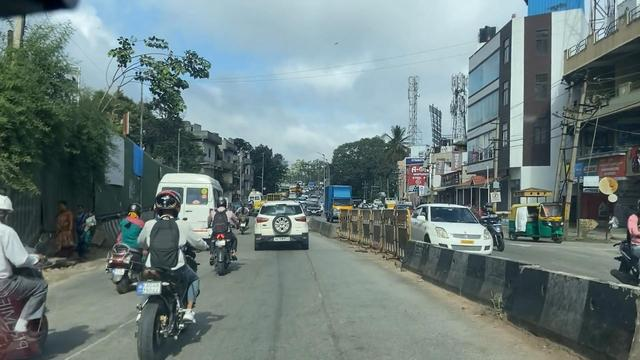LMV: (139, 193, 198, 350), (254, 201, 309, 253), (209, 199, 235, 273)
UnsurfacedRoad: (303, 256, 347, 357), (66, 317, 133, 359)
